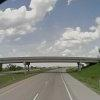Bridge: (3, 47, 92, 76)
